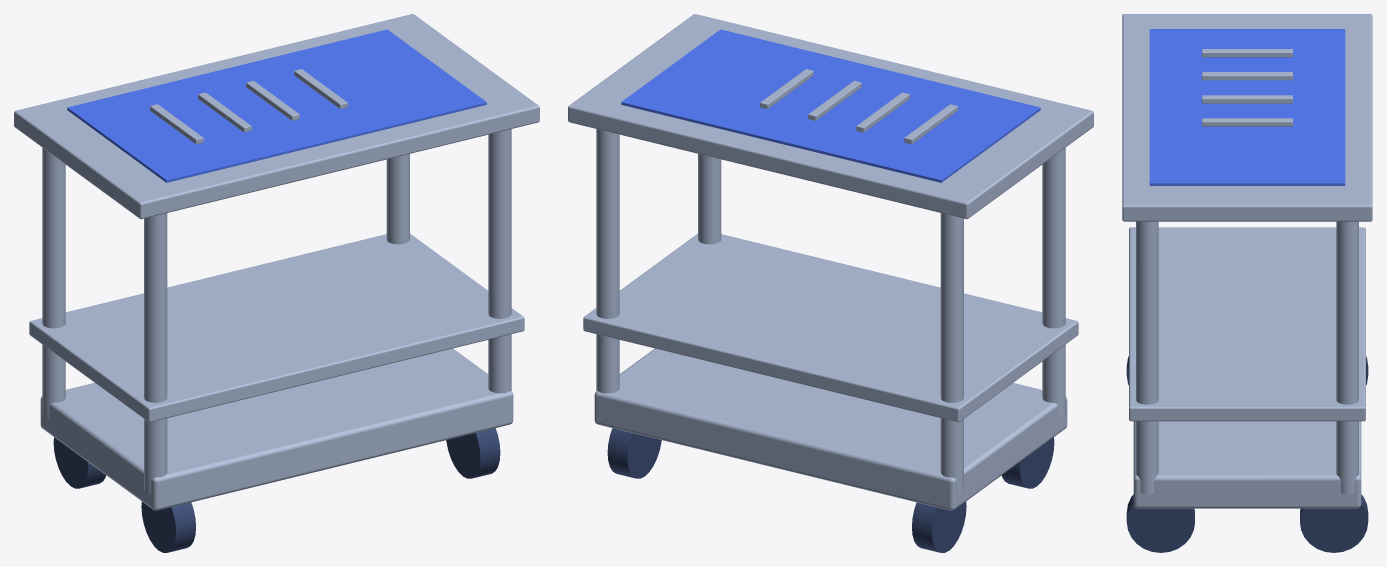
Rendered from trolley.glb.
3 renders of one model, left to right at view 1: azimuth 30°, elevation 25°; view 2: azimuth 150°, elevation 25°; view 3: azimuth 270°, elevation 25°, orthographic.
Visible parts, largest first — view 1: lower shelf, base, blue drape, instrument tray, leg (×4), caster (×3), instrument (×4); view 2: lower shelf, base, blue drape, instrument tray, leg (×4), caster (×3), instrument (×4); view 3: lower shelf, blue drape, instrument tray, base, leg (×2), caster (×2), instrument (×4).
Part boxes in pixels (bbox=[...]): lower shelf: bbox=[29, 234, 524, 422]; base: bbox=[40, 348, 513, 510]; blue drape: bbox=[67, 29, 486, 182]; instrument tray: bbox=[14, 14, 539, 219]; leg (×4): bbox=[42, 129, 511, 493]; caster (×3): bbox=[53, 428, 500, 552]; instrument (×4): bbox=[150, 69, 347, 144]; lower shelf: bbox=[583, 234, 1078, 422]; base: bbox=[594, 348, 1067, 510]; blue drape: bbox=[621, 29, 1040, 182]; instrument tray: bbox=[568, 14, 1093, 219]; leg (×4): bbox=[596, 129, 1065, 493]; caster (×3): bbox=[607, 428, 1054, 552]; instrument (×4): bbox=[760, 69, 957, 144]; lower shelf: bbox=[1129, 227, 1365, 421]; blue drape: bbox=[1149, 29, 1345, 185]; instrument tray: bbox=[1122, 14, 1372, 221]; base: bbox=[1133, 421, 1361, 508]; leg (×2): bbox=[1136, 221, 1358, 494]; caster (×2): bbox=[1126, 494, 1368, 552]; instrument (×4): bbox=[1202, 49, 1292, 126].
Size of the model in its own units: 1 by 0.911 by 0.55.
